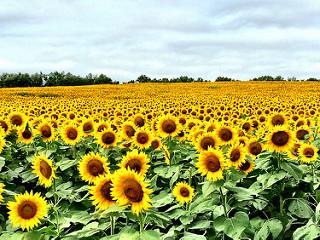sunflower: (111, 170, 153, 215), (8, 190, 49, 231), (88, 174, 123, 212), (196, 148, 228, 181), (119, 150, 150, 178), (32, 154, 58, 187), (78, 152, 107, 181), (267, 127, 294, 153), (157, 114, 180, 139), (195, 132, 221, 153), (173, 181, 195, 205), (214, 124, 238, 144), (62, 124, 82, 146), (95, 129, 119, 147), (227, 146, 246, 168), (7, 110, 26, 131), (37, 121, 56, 141), (131, 129, 151, 147), (267, 113, 288, 130), (244, 139, 265, 156), (121, 123, 136, 141), (130, 114, 147, 128)
